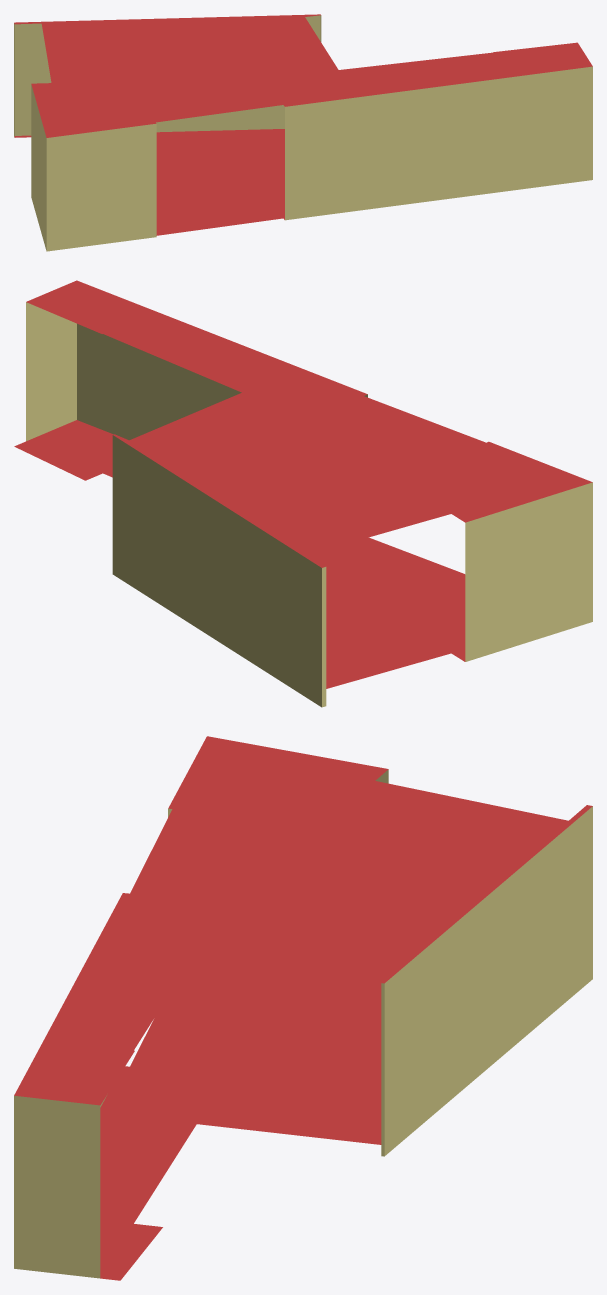
3 views of the same model, one above another, from view 1: azimuth 30°, elevation 25°; view 2: azimuth 150°, elevation 25°; view 3: azimuth 270°, elevation 25° (orthographic). The views are drawn at different scales.
Parts seen in each view (by area): view 1: group_4, group_3, group_5; view 2: group_4, group_3, group_5; view 3: group_3, group_4, group_5.
Part boxes in pixels (x1,y1,x2,y2): group_4: [14, 15, 592, 251]; group_3: [14, 14, 592, 137]; group_5: [14, 129, 284, 235]; group_4: [26, 302, 592, 707]; group_3: [26, 280, 592, 567]; group_5: [14, 420, 465, 688]; group_3: [14, 736, 592, 1105]; group_4: [14, 769, 592, 1278]; group_5: [100, 951, 387, 1280].
Size of the model in its own units: 37.96 by 24.99 by 8.24.
